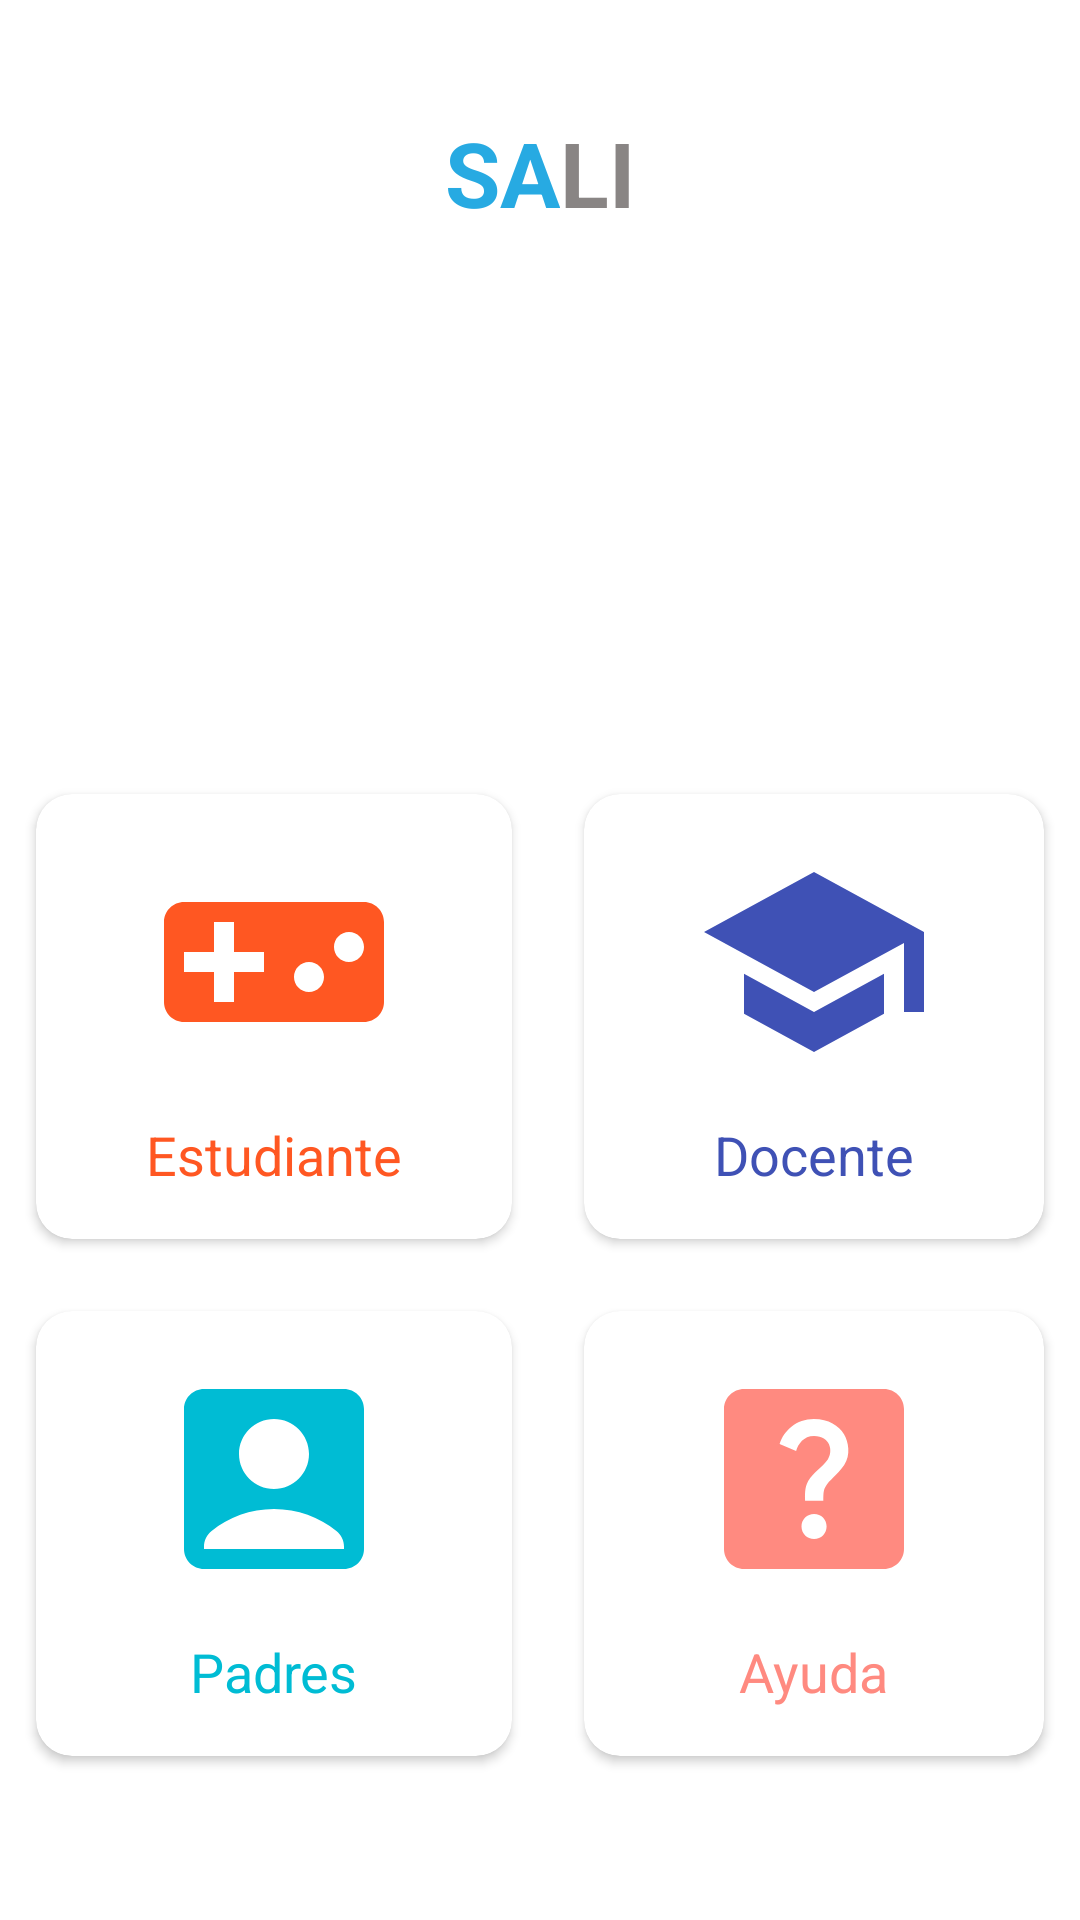

Where to tap for icons on this 1080 × 1920 app screen, as [x,y]:
ayude: [814,1479]
perfil: [274,1479]
retos: [274,962]
vida estudiantil: [814,962]
